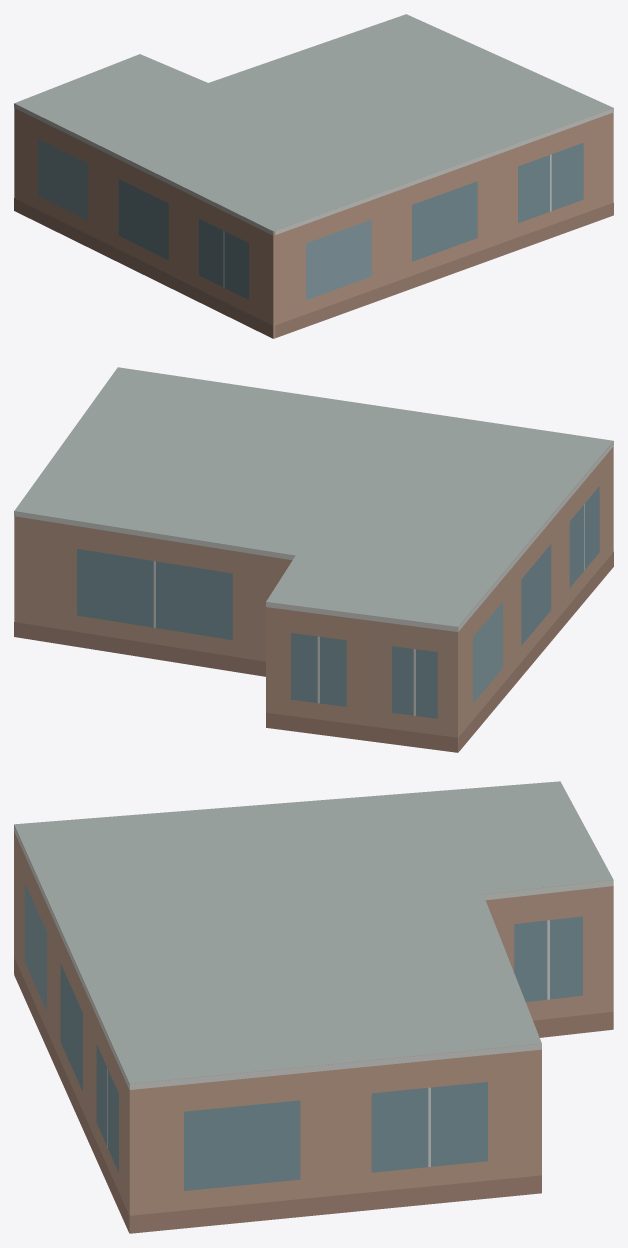
File: survey-upis-32606815.glb
3 views of the same model, one above another, from view 1: azimuth 30°, elevation 25°; view 2: azimuth 150°, elevation 25°; view 3: azimuth 270°, elevation 25° (orthographic). The views are drawn at different scales.
Visible parts, largest first — view 1: survey-upis-32606815.tmp; view 2: survey-upis-32606815.tmp; view 3: survey-upis-32606815.tmp.
Boxes of the visible parts, box(x1,y1,x2,y2) form: survey-upis-32606815.tmp: box(14, 14, 613, 338); survey-upis-32606815.tmp: box(14, 367, 613, 752); survey-upis-32606815.tmp: box(14, 781, 613, 1233).
Bounding box in the file's own units: 13.23 × 3.05 × 11.08.
